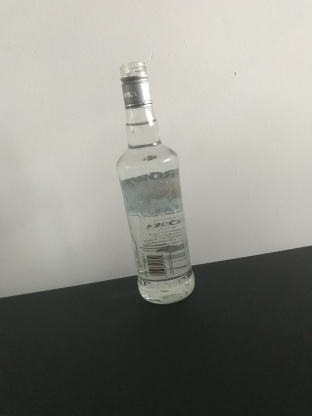nakretka: (117, 58, 153, 111)
